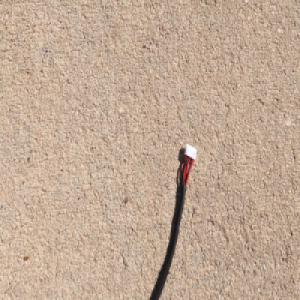Wire: (144, 140, 198, 300)
